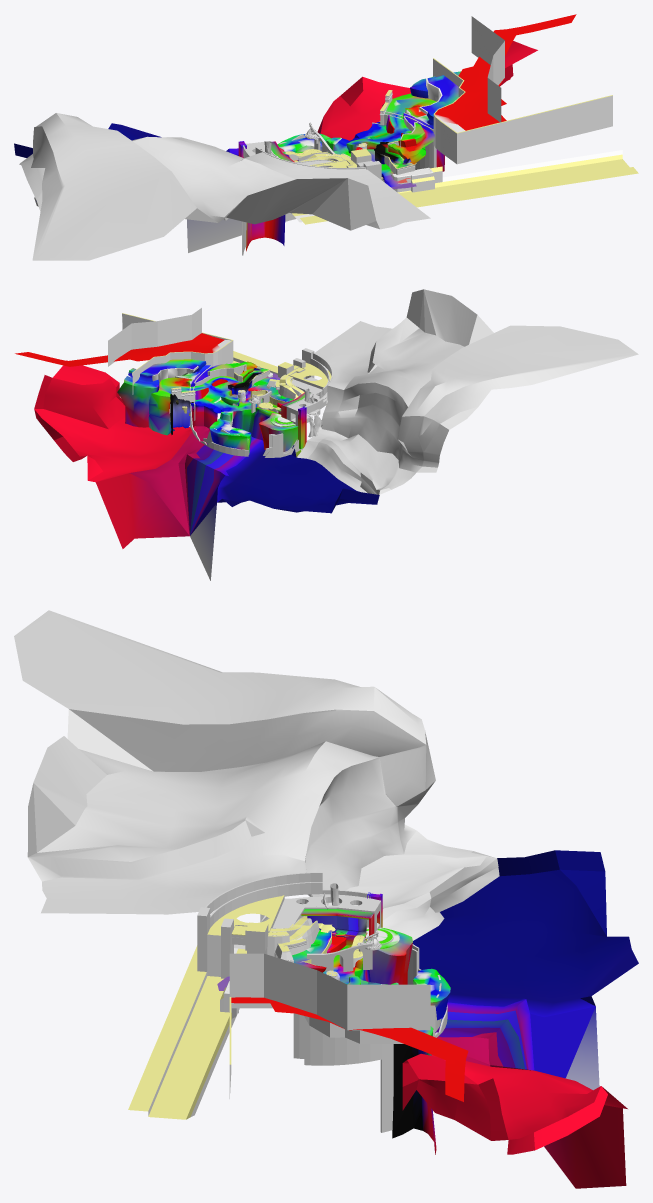
File: observatoryV3.fbx
The picture shows the model from 3 angles, top to bottom: view 1: azimuth 30°, elevation 25°; view 2: azimuth 150°, elevation 25°; view 3: azimuth 270°, elevation 25°; orthographic projection. The views are drawn at different scales.
Parts seen in each view (by area): view 1: Plane.004, OB_Wall_Ruins_Boundary_1, OB_Ground_Terrain_03, OB_Ground_Pool_Plane_01, OB_Ground_Terrain_Top, OB_Ground_Terrain_01, OB_Ground_Terrain_02, OB_Optional_01_CliffFace, OB_Optional_02_ON_Ruins, OB_Ground_Terrain_05, OB_Ruins_ForceFieldWall_2, OB_Ruins_ForceFieldWall_1 (+3 smaller); view 2: Plane.004, OB_Ground_Terrain_03, OB_Wall_Ruins_Boundary_1, OB_Ground_Terrain_01, OB_Ground_Terrain_02, OB_Ground_Terrain_Top, OB_Ruins_ForceFieldWall_2, OB_Ground_Terrain_05, OB_Ground_Pool_Plane_01, OB_Optional_01_CliffFace, OB_Ruins_StairsBroken_Base, OB_Wall_Ruins_Boundary_2 (+3 smaller); view 3: Plane.004, OB_Ground_Terrain_03, OB_Ground_Pool_Plane_01, OB_Wall_Ruins_Boundary_1, OB_Ruins_ForceFieldWall_2, OB_Ground_Terrain_Top, OB_Ruins_ForceFieldWall_1, OB_Ground_Terrain_01, OB_Ground_Ruins_04, OB_Optional_01_CliffFace, OB_Ground_Pool_Plane_02, OB_Ruins_Telescope_Bridge (+3 smaller).
Boxes of the visible parts, x1,y1,x2,y2 form: Plane.004: (19,113,430,260); OB_Wall_Ruins_Boundary_1: (433,16,612,164); OB_Ground_Terrain_03: (14,41,537,252); OB_Ground_Pool_Plane_01: (292,150,638,224); OB_Ground_Terrain_Top: (435,14,576,132); OB_Ground_Terrain_01: (388,71,460,171); OB_Ground_Terrain_02: (346,93,436,153); OB_Optional_01_CliffFace: (246,148,285,251); OB_Optional_02_ON_Ruins: (391,167,434,192); OB_Ground_Terrain_05: (277,133,341,153); OB_Ruins_ForceFieldWall_2: (242,111,436,255); OB_Ruins_ForceFieldWall_1: (248,114,435,245); Plane.004: (297,289,638,499); OB_Ground_Terrain_03: (34,360,379,580); OB_Wall_Ruins_Boundary_1: (108,308,233,394); OB_Ground_Terrain_01: (117,359,257,427); OB_Ground_Terrain_02: (148,376,240,435); OB_Ground_Terrain_Top: (15,333,231,366); OB_Ruins_ForceFieldWall_2: (189,353,332,457); OB_Ground_Terrain_05: (209,411,251,452); OB_Ground_Pool_Plane_01: (231,351,331,386); OB_Optional_01_CliffFace: (259,413,301,457); OB_Ruins_StairsBroken_Base: (170,392,193,434); OB_Wall_Ruins_Boundary_2: (195,364,269,385); Plane.004: (14,610,499,940); OB_Ground_Terrain_03: (323,850,638,1188); OB_Ground_Pool_Plane_01: (128,896,282,1119); OB_Wall_Ruins_Boundary_1: (229,953,435,1098); OB_Ruins_ForceFieldWall_2: (205,872,447,1132); OB_Ground_Terrain_Top: (231,997,468,1101); OB_Ruins_ForceFieldWall_1: (210,882,441,1058); OB_Ground_Terrain_01: (392,1026,436,1154); OB_Ground_Ruins_04: (301,892,382,945); OB_Optional_01_CliffFace: (367,929,412,984); OB_Ground_Pool_Plane_02: (272,894,380,928); OB_Ruins_Telescope_Bridge: (307,942,372,971).
Size of the model in its own units: 3024 by 1081 by 1857.
